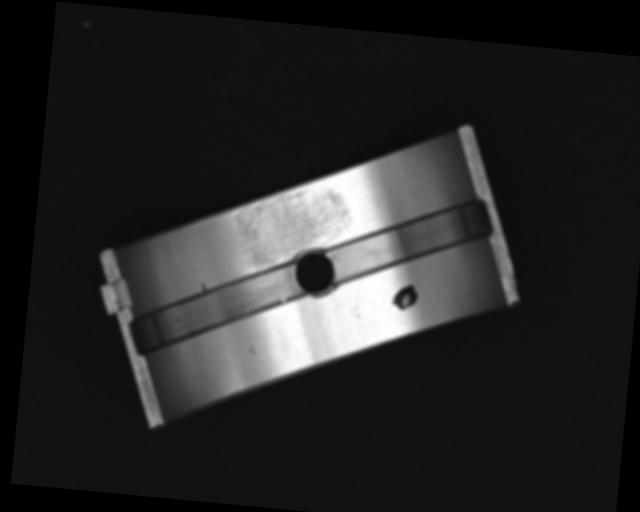blot: (390, 281, 420, 312)
bruise: (197, 280, 210, 296), (248, 343, 258, 355)
gap: (133, 244, 313, 372), (320, 174, 495, 302)
hole: (285, 244, 341, 302)
scratch: (230, 178, 357, 279)
